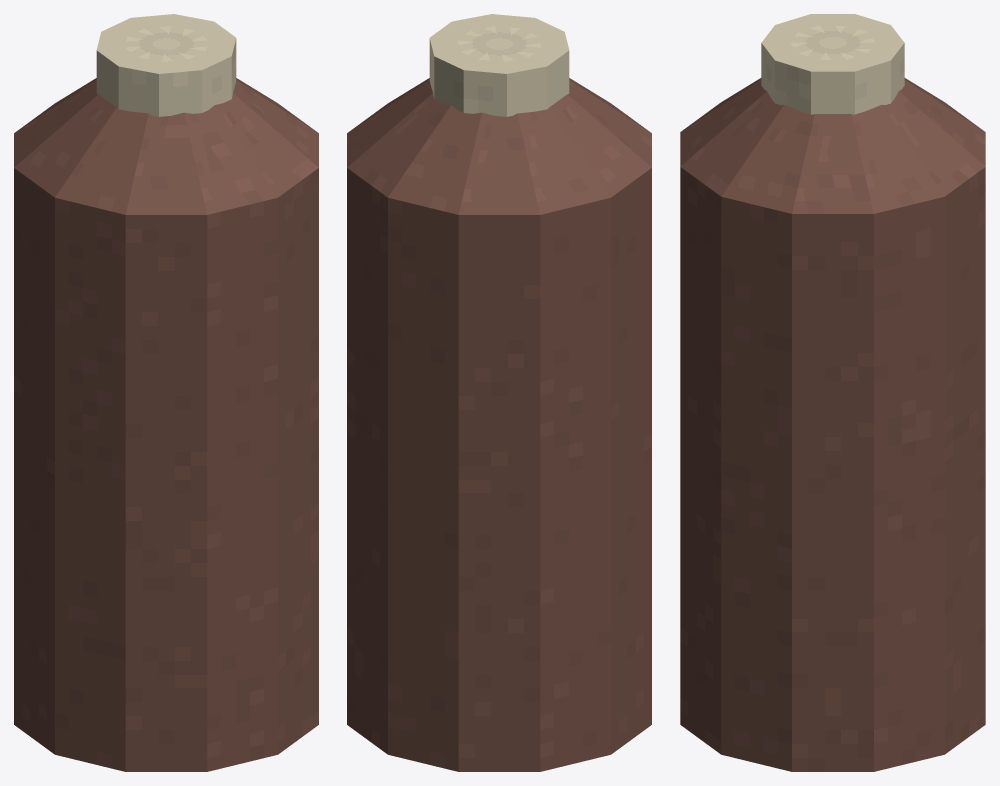
The model's file is mushroom_ketchup.glb.
3 views of the same model, side by side, from view 1: azimuth 30°, elevation 25°; view 2: azimuth 150°, elevation 25°; view 3: azimuth 270°, elevation 25° (orthographic).
Parts seen in each view (by area): view 1: block_condiment bottle, block_flared neck, block_sealed cap; view 2: block_condiment bottle, block_flared neck, block_sealed cap; view 3: block_condiment bottle, block_flared neck, block_sealed cap.
Part boxes in pixels (left/top/right/bottom): block_condiment bottle: left=14, top=168, right=318, bottom=771; block_flared neck: left=14, top=78, right=318, bottom=214; block_sealed cap: left=96, top=14, right=236, bottom=116; block_condiment bottle: left=347, top=168, right=651, bottom=771; block_flared neck: left=347, top=78, right=651, bottom=214; block_sealed cap: left=429, top=14, right=569, bottom=116; block_condiment bottle: left=680, top=167, right=985, bottom=771; block_flared neck: left=680, top=78, right=985, bottom=213; block_sealed cap: left=761, top=14, right=904, bottom=114.
Bounding box in the file's own units: 0.0685 × 0.1644 × 0.0685.
1 material, 1 textured.
